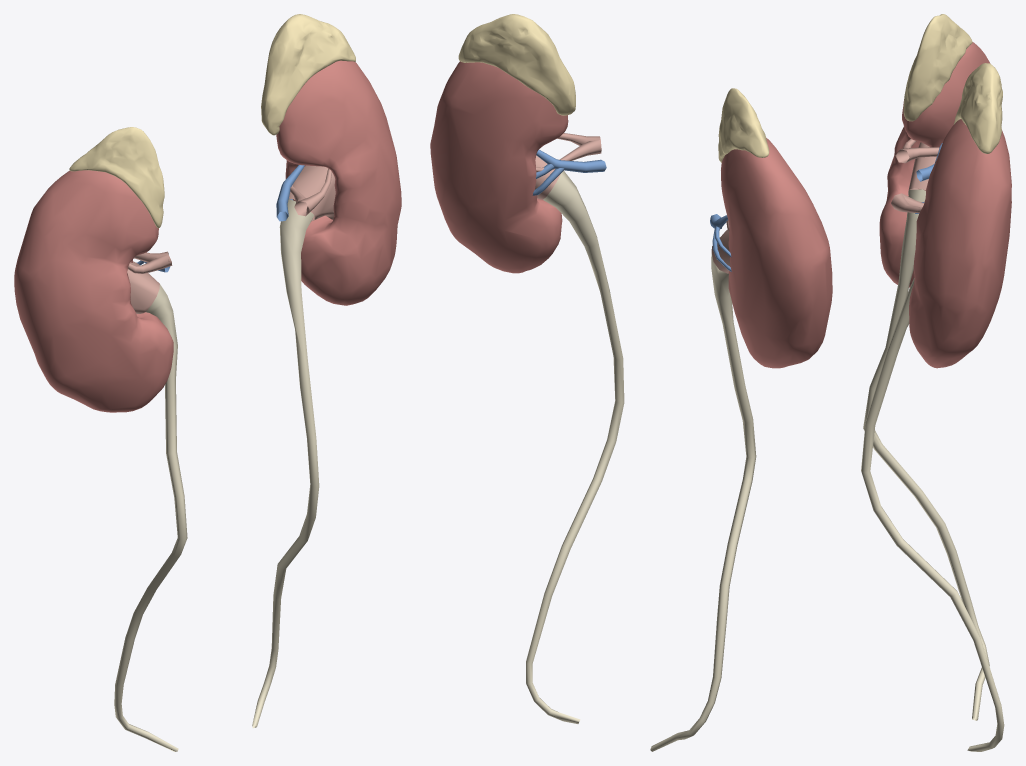
Rendered from zanatomy-kidney.glb.
3 renders of one model, left to right at view 1: azimuth 30°, elevation 25°; view 2: azimuth 150°, elevation 25°; view 3: azimuth 270°, elevation 25°, orthographic. The views are drawn at different scales.
Visible parts, largest first — view 1: za_kidney_r, za_kidney_l, za_ureter_l, za_suprarenal_l, za_ureter_r, za_suprarenal_r, za_renal_pelvis_l, za_renal_pelvis_r; view 2: za_kidney_l, za_kidney_r, za_ureter_l, za_suprarenal_l, za_ureter_r, za_suprarenal_r, za_intrarenal_vein_l; view 3: za_kidney_l, za_kidney_r, za_ureter_l, za_ureter_r, za_suprarenal_r, za_suprarenal_l, za_renal_pelvis_r, za_segart_post_r, za_segart_ant_l.
Part boxes in pixels (bbox=[...]): za_kidney_r: bbox=[14, 170, 173, 412]; za_kidney_l: bbox=[276, 60, 401, 305]; za_ureter_l: bbox=[252, 199, 319, 728]; za_suprarenal_l: bbox=[261, 14, 355, 135]; za_ureter_r: bbox=[114, 284, 187, 751]; za_suprarenal_r: bbox=[69, 127, 164, 228]; za_renal_pelvis_l: bbox=[289, 165, 335, 221]; za_renal_pelvis_r: bbox=[127, 261, 159, 313]; za_kidney_l: bbox=[430, 61, 568, 273]; za_kidney_r: bbox=[721, 138, 832, 368]; za_ureter_l: bbox=[526, 171, 624, 723]; za_suprarenal_l: bbox=[458, 14, 575, 115]; za_ureter_r: bbox=[650, 254, 756, 751]; za_suprarenal_r: bbox=[718, 88, 769, 162]; za_intrarenal_vein_l: bbox=[532, 149, 606, 195]; za_kidney_l: bbox=[909, 119, 1011, 368]; za_kidney_r: bbox=[879, 42, 990, 287]; za_ureter_l: bbox=[861, 278, 1004, 751]; za_ureter_r: bbox=[863, 189, 989, 720]; za_suprarenal_r: bbox=[903, 14, 972, 121]; za_suprarenal_l: bbox=[953, 63, 1002, 153]; za_renal_pelvis_r: bbox=[908, 142, 936, 194]; za_segart_post_r: bbox=[896, 147, 939, 163]; za_segart_ant_l: bbox=[891, 193, 922, 213].
Size of the model in its own units: 0.178 by 0.3128 by 0.0594.
